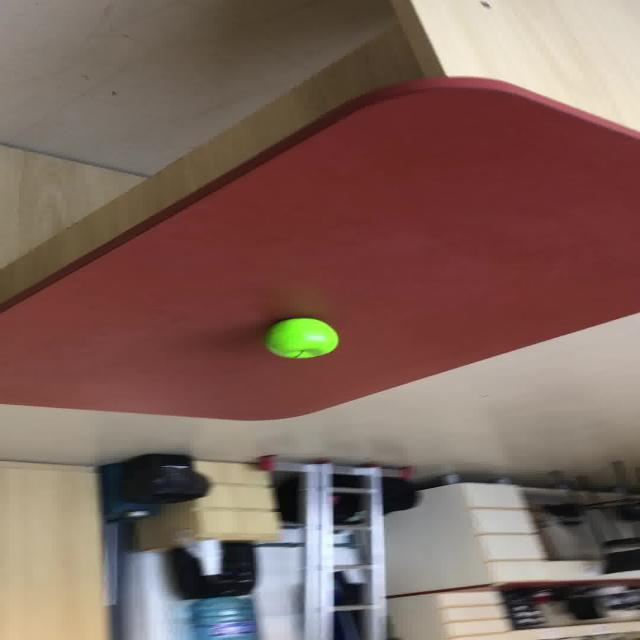apple: (263, 316, 339, 358)
